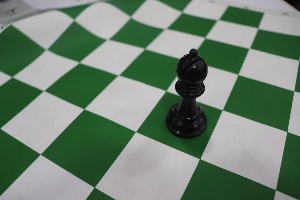black_bishop: (163, 36, 213, 145)
